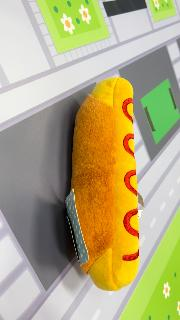hotdog: (72, 79, 142, 291)
